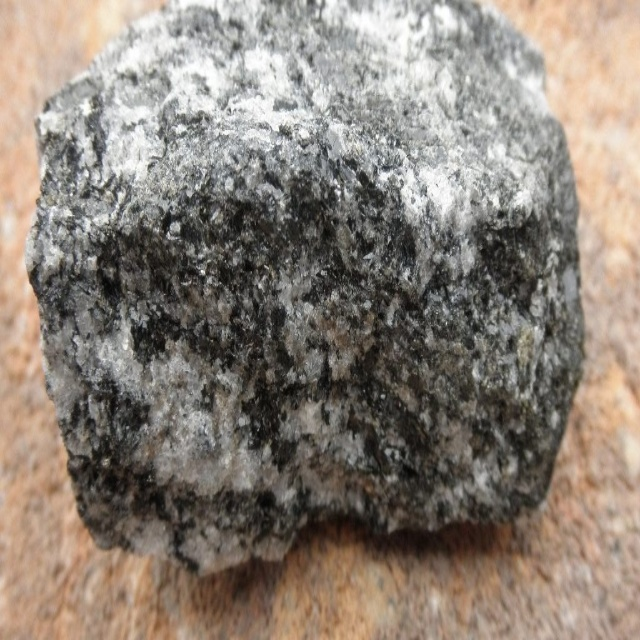obstacle: (26, 3, 583, 571)
